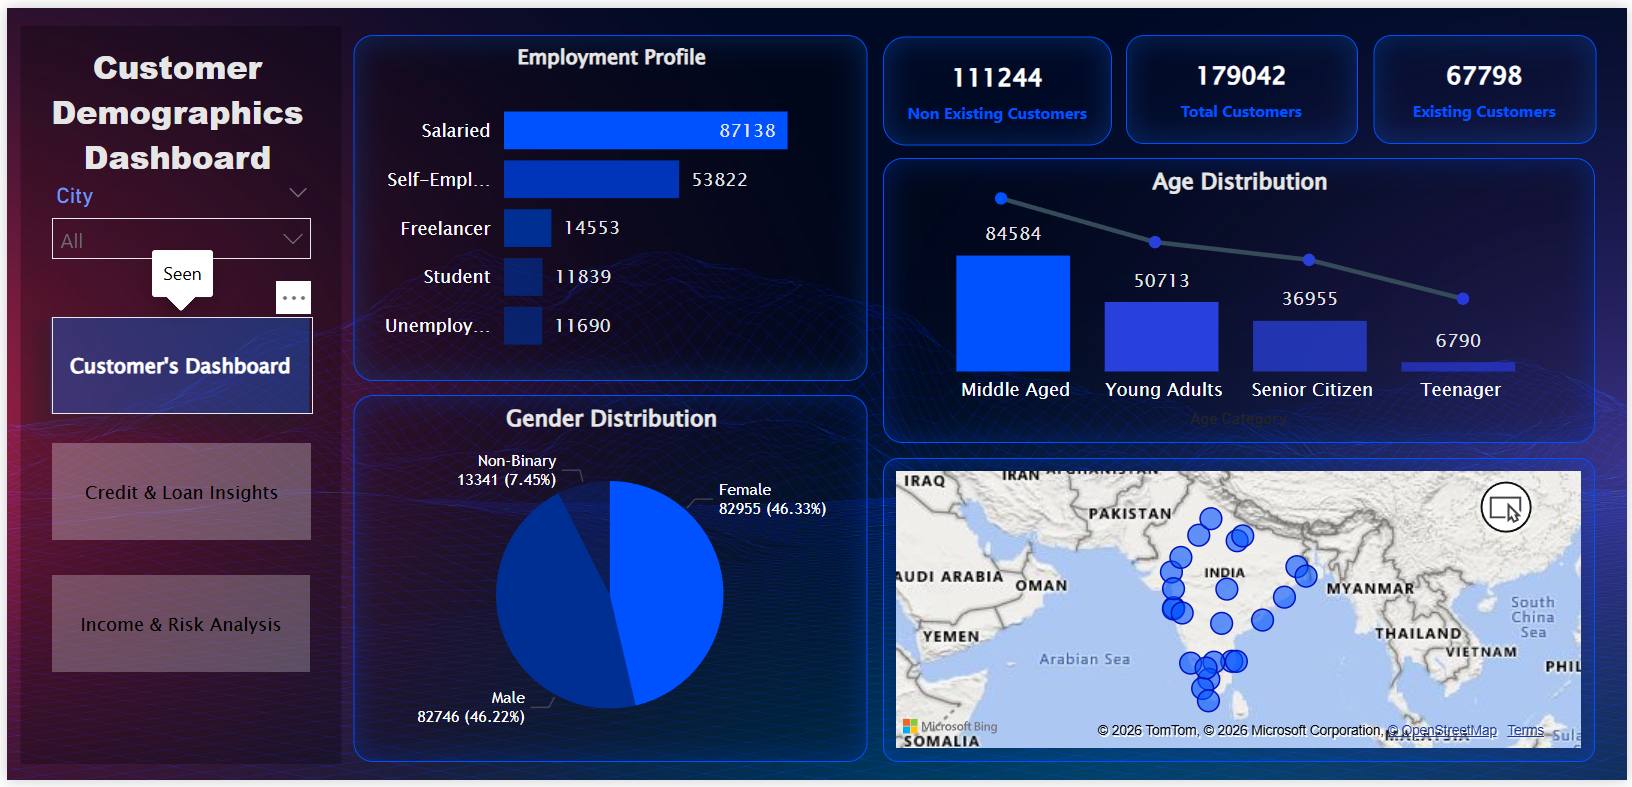

Layout of this report page (visuals, bound fields, positions):
{"tool":"powerbi","page":{"name":"Customers","canvas":[1080,515],"ordinal":0},"visuals":[{"type":"shape","box":[9,12,214,492],"z":0},{"type":"textbox","box":[29,206,173,65],"z":1000},{"type":"textbox","box":[30,290,173,65],"z":2000},{"type":"textbox","box":[30,378,172,65],"z":3000},{"type":"pieChart","title":"Gender Distribution ","fields":{"Category":["credit_data.Gender"],"Y":["CountNonNull(credit_data.Gender)"]},"box":[231.2,258.1,342.4,245.3],"z":4000},{"type":"columnChart","title":"Age Distribution","fields":{"Category":["credit_data.Age Category"],"Y":["CountNonNull(credit_data.Age Category)"]},"box":[583.9,99.7,475.3,190.4],"z":5000},{"type":"map","fields":{"Category":["credit_data.City"]},"box":[583.9,300.2,475.3,203.1],"z":6000},{"type":"clusteredBarChart","title":"Employment Profile","fields":{"Category":["credit_data.Employment Profile"],"Y":["CountNonNull(credit_data.Employment Profile)"]},"box":[231.2,17.9,342.4,231.2],"z":7000},{"type":"textbox","box":[19.9,19,187.1,103.5],"z":8000},{"type":"card","fields":{"Values":["credit_data.Total Customers"]},"box":[746.1,17.9,154.6,72.8],"z":9000},{"type":"card","fields":{"Values":["Sum(credit_data.Existing Cust)"]},"box":[910.9,17.9,149.5,72.8],"z":10000},{"type":"card","fields":{"Values":["Sum(credit_data.Non Existing Cust)"]},"box":[583.9,19.2,153.3,72.8],"z":11000},{"type":"slicer","fields":{"Values":["Credit_Data.City"]},"box":[20.4,112.4,192.9,65.2],"z":12000},{"type":"lineChart","title":"Age Distribution","fields":{"Category":["credit_data.Age Category"],"Y":["CountNonNull(Credit_Data.Age Category)"]},"box":[617.1,99.7,399.9,106],"z":13000},{"type":"actionButton","box":[30,206,174,65],"z":14000},{"type":"actionButton","box":[30,290,174,65],"z":15000},{"type":"actionButton","box":[29,378,174,65],"z":16000}]}

Visuals, with their boxes on the page's 1080x515 design canvas (x1, y1, x2, y2). These are canvas units, not pixel positions in the 1632x787 screenshot, which may show the page scaled, cropped or inside an application window:
shape: bbox(9, 12, 223, 504)
textbox: bbox(29, 206, 202, 271)
textbox: bbox(30, 290, 203, 355)
textbox: bbox(30, 378, 202, 443)
"Gender Distribution " pieChart: bbox(231, 258, 574, 503)
"Age Distribution" columnChart: bbox(584, 100, 1059, 290)
map - credit_data.City: bbox(584, 300, 1059, 503)
"Employment Profile" clusteredBarChart: bbox(231, 18, 574, 249)
textbox: bbox(20, 19, 207, 122)
card - credit_data.Total Customers: bbox(746, 18, 901, 91)
card - Sum(credit_data.Existing Cust): bbox(911, 18, 1060, 91)
card - Sum(credit_data.Non Existing Cust): bbox(584, 19, 737, 92)
slicer - Credit_Data.City: bbox(20, 112, 213, 178)
"Age Distribution" lineChart: bbox(617, 100, 1017, 206)
actionButton: bbox(30, 206, 204, 271)
actionButton: bbox(30, 290, 204, 355)
actionButton: bbox(29, 378, 203, 443)
